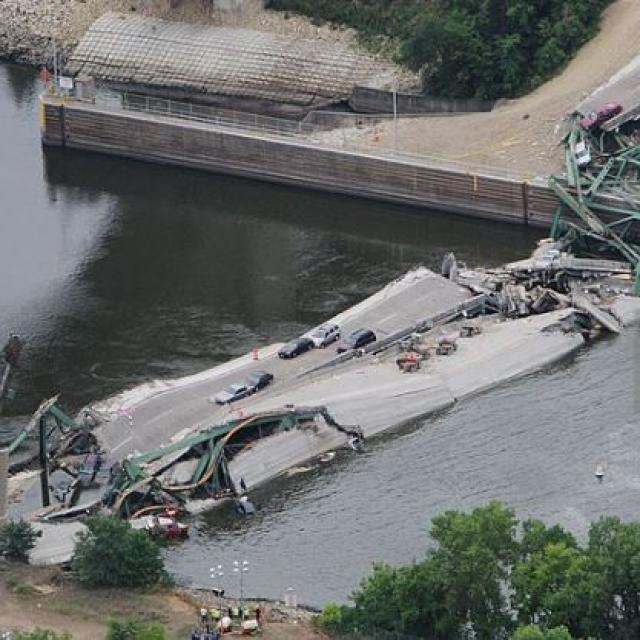traffic_incident: (0, 221, 585, 536), (516, 72, 637, 420)
